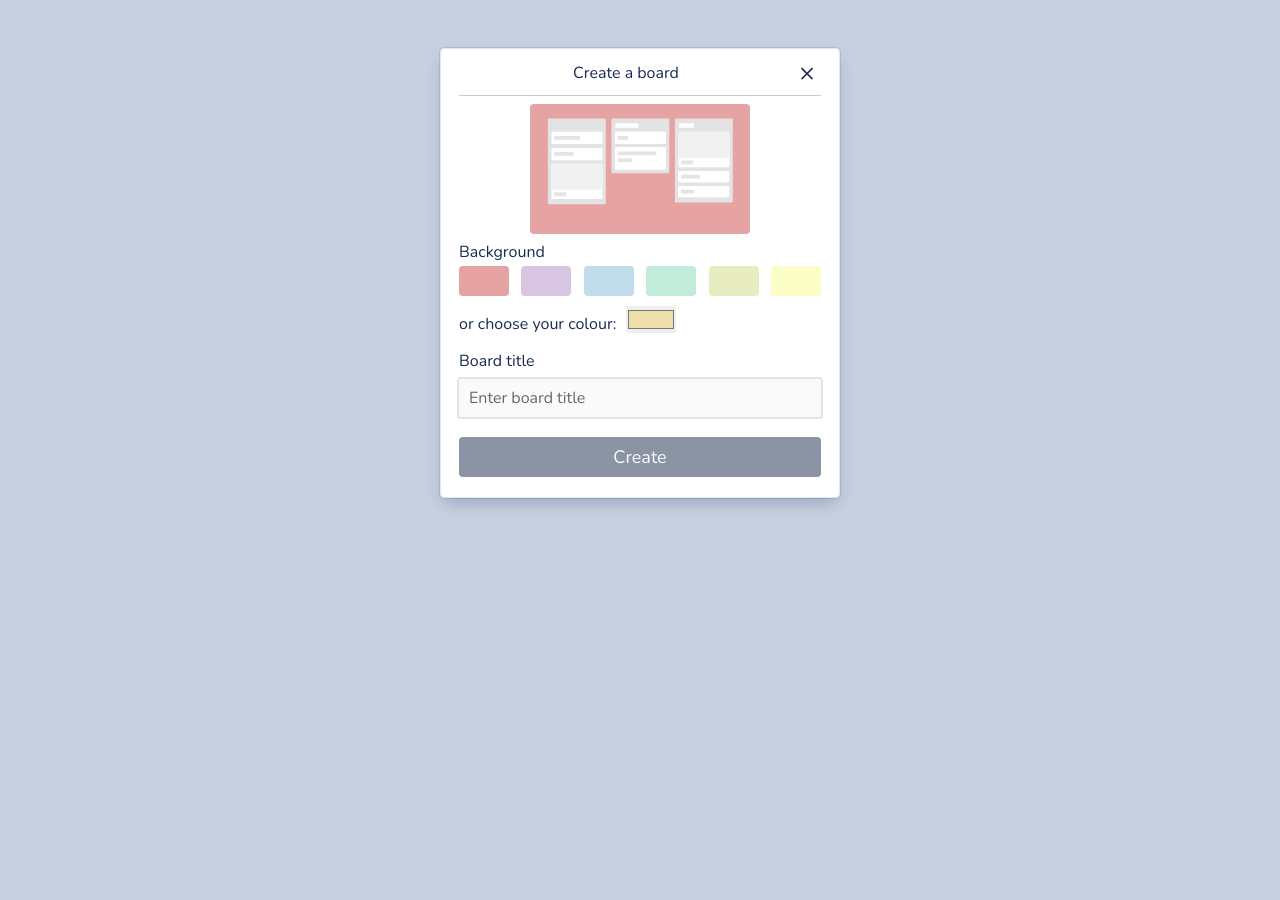
Scenario: Create board form tests › should check if message appear when board title is duplicated
The image size is (1280, 900).
Type "b1" into the field with placeholder "Enter board title".
click(640, 398); type("b1")  # box [459,379,821,417]
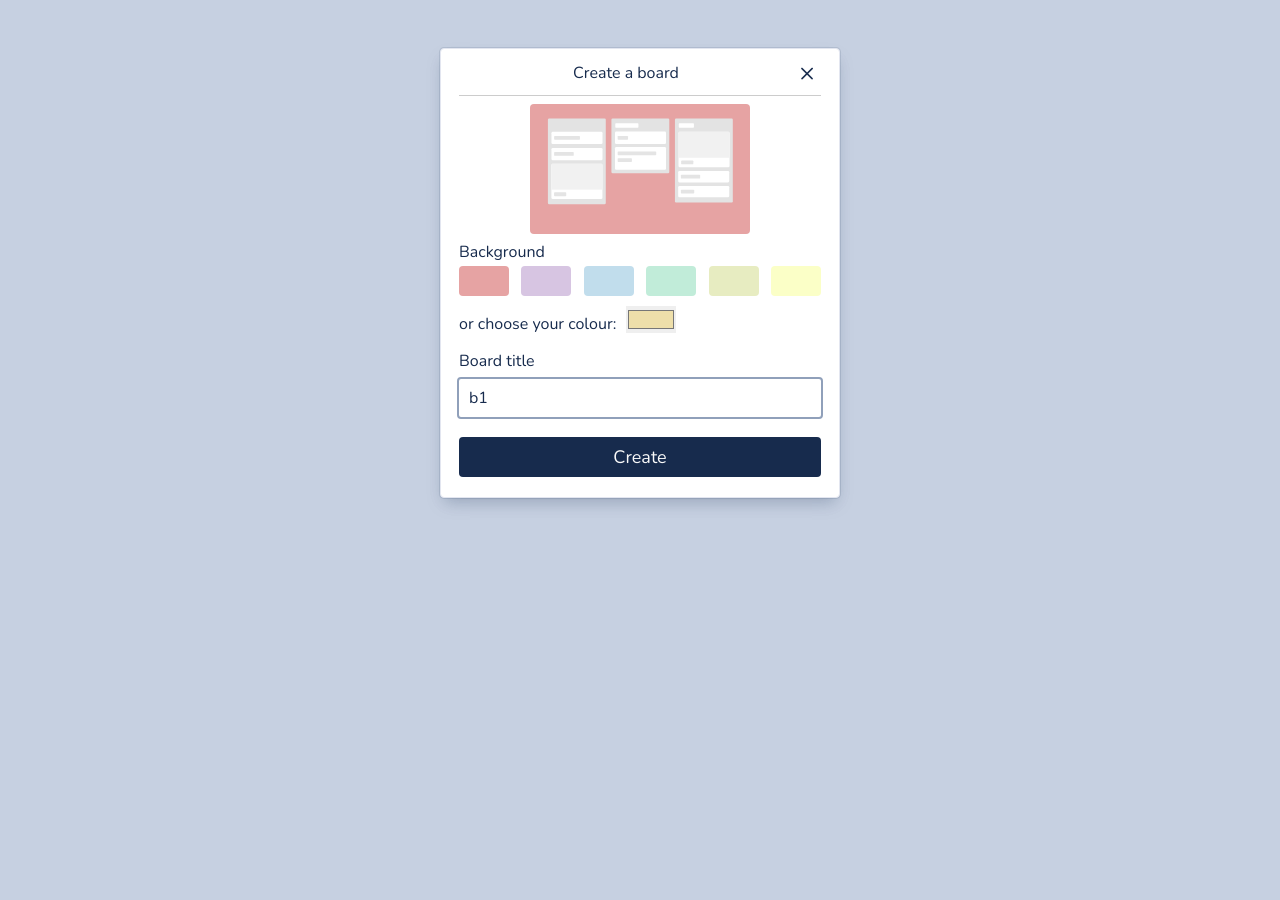
Click the button "Create".
click(640, 457)  # box [459,437,821,477]
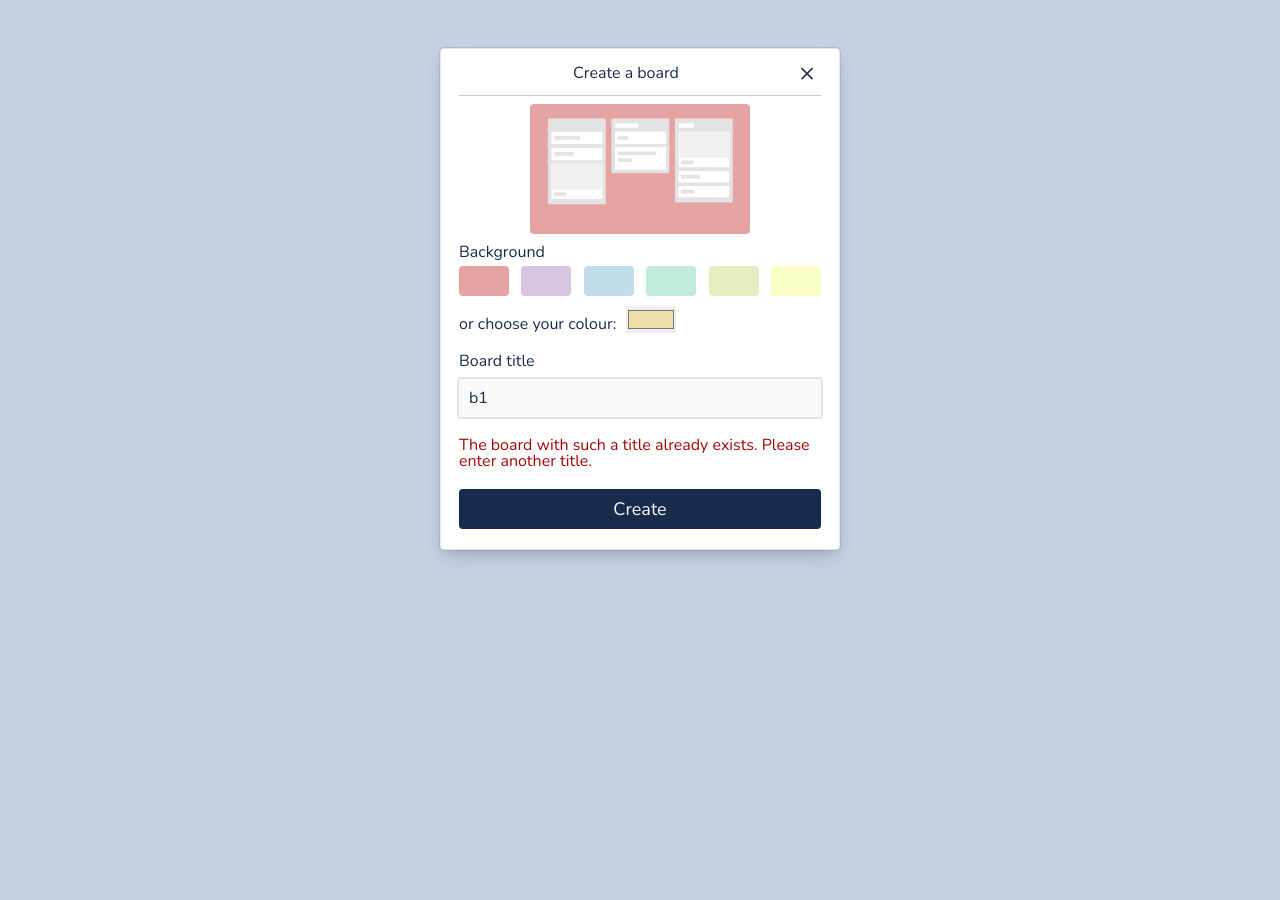
Check: the text "The board with such a title already exists. Please enter another title." is shown, box [459,437,821,469]
